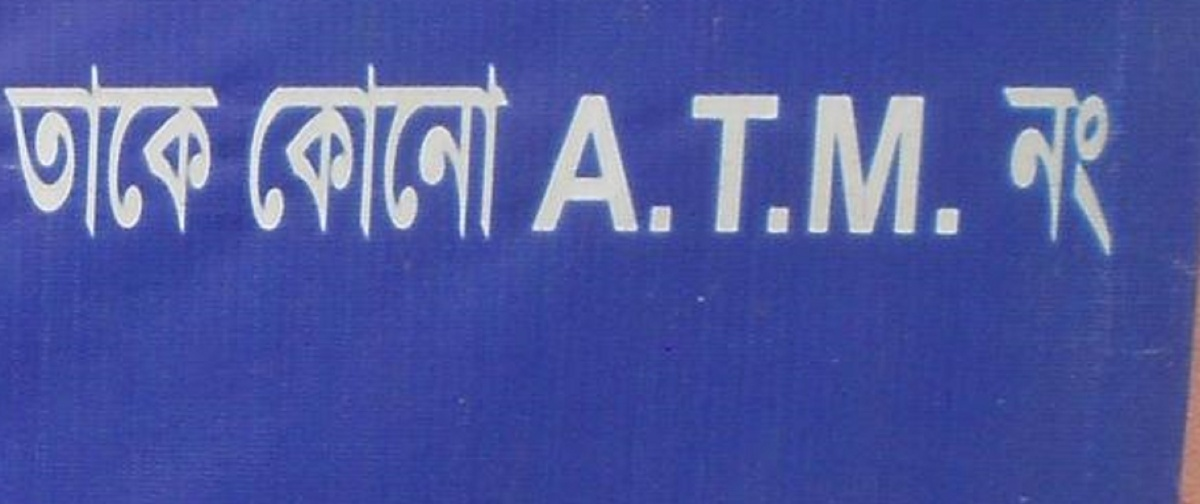text: (257, 61, 272, 242), (273, 61, 288, 242), (289, 61, 304, 242), (305, 61, 320, 242), (321, 61, 336, 242), (337, 61, 352, 242), (353, 61, 368, 242), (369, 61, 384, 242), (385, 61, 400, 242), (401, 61, 416, 242), (417, 61, 432, 242), (433, 61, 448, 242), (449, 61, 464, 242), (465, 61, 480, 242), (481, 61, 496, 242), (497, 61, 512, 242), (17, 64, 32, 239), (33, 64, 48, 239), (49, 64, 64, 239), (65, 64, 80, 239), (81, 64, 96, 239), (97, 64, 112, 239), (113, 64, 128, 239), (129, 64, 144, 239), (145, 64, 160, 239), (161, 64, 176, 239), (177, 64, 192, 239), (193, 64, 208, 239), (1009, 87, 1024, 253), (1025, 87, 1040, 253), (1041, 87, 1056, 253), (1057, 87, 1072, 253), (1073, 87, 1088, 253), (1089, 87, 1104, 253), (2, 64, 16, 239), (209, 64, 222, 239), (545, 92, 560, 242), (561, 92, 576, 242), (577, 92, 592, 242), (593, 92, 608, 242), (609, 92, 624, 242), (625, 92, 640, 242), (641, 92, 656, 242), (657, 92, 672, 242), (673, 92, 688, 242), (689, 92, 704, 242), (705, 92, 720, 242), (721, 92, 736, 242), (737, 92, 752, 242), (753, 92, 768, 242), (769, 92, 784, 242), (785, 92, 800, 242), (801, 92, 816, 242), (817, 92, 832, 242), (833, 92, 848, 242), (849, 92, 864, 242), (865, 92, 880, 242), (881, 92, 896, 242), (897, 92, 912, 242), (913, 92, 928, 242), (929, 92, 944, 242), (945, 92, 960, 242), (246, 61, 256, 242), (1001, 87, 1008, 253), (537, 92, 544, 242), (961, 92, 968, 242), (1105, 87, 1111, 253), (513, 61, 515, 242)
